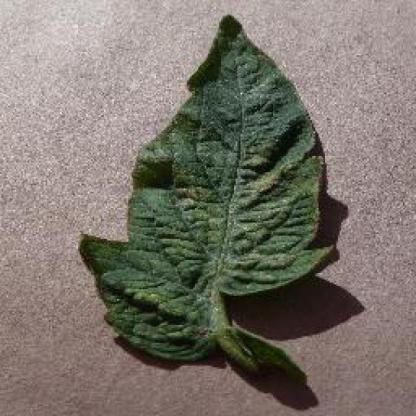Tomato_Spider_Mites: (79, 14, 332, 380)
